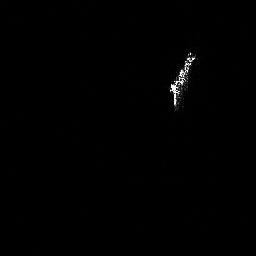ship: (165, 47, 200, 113)
